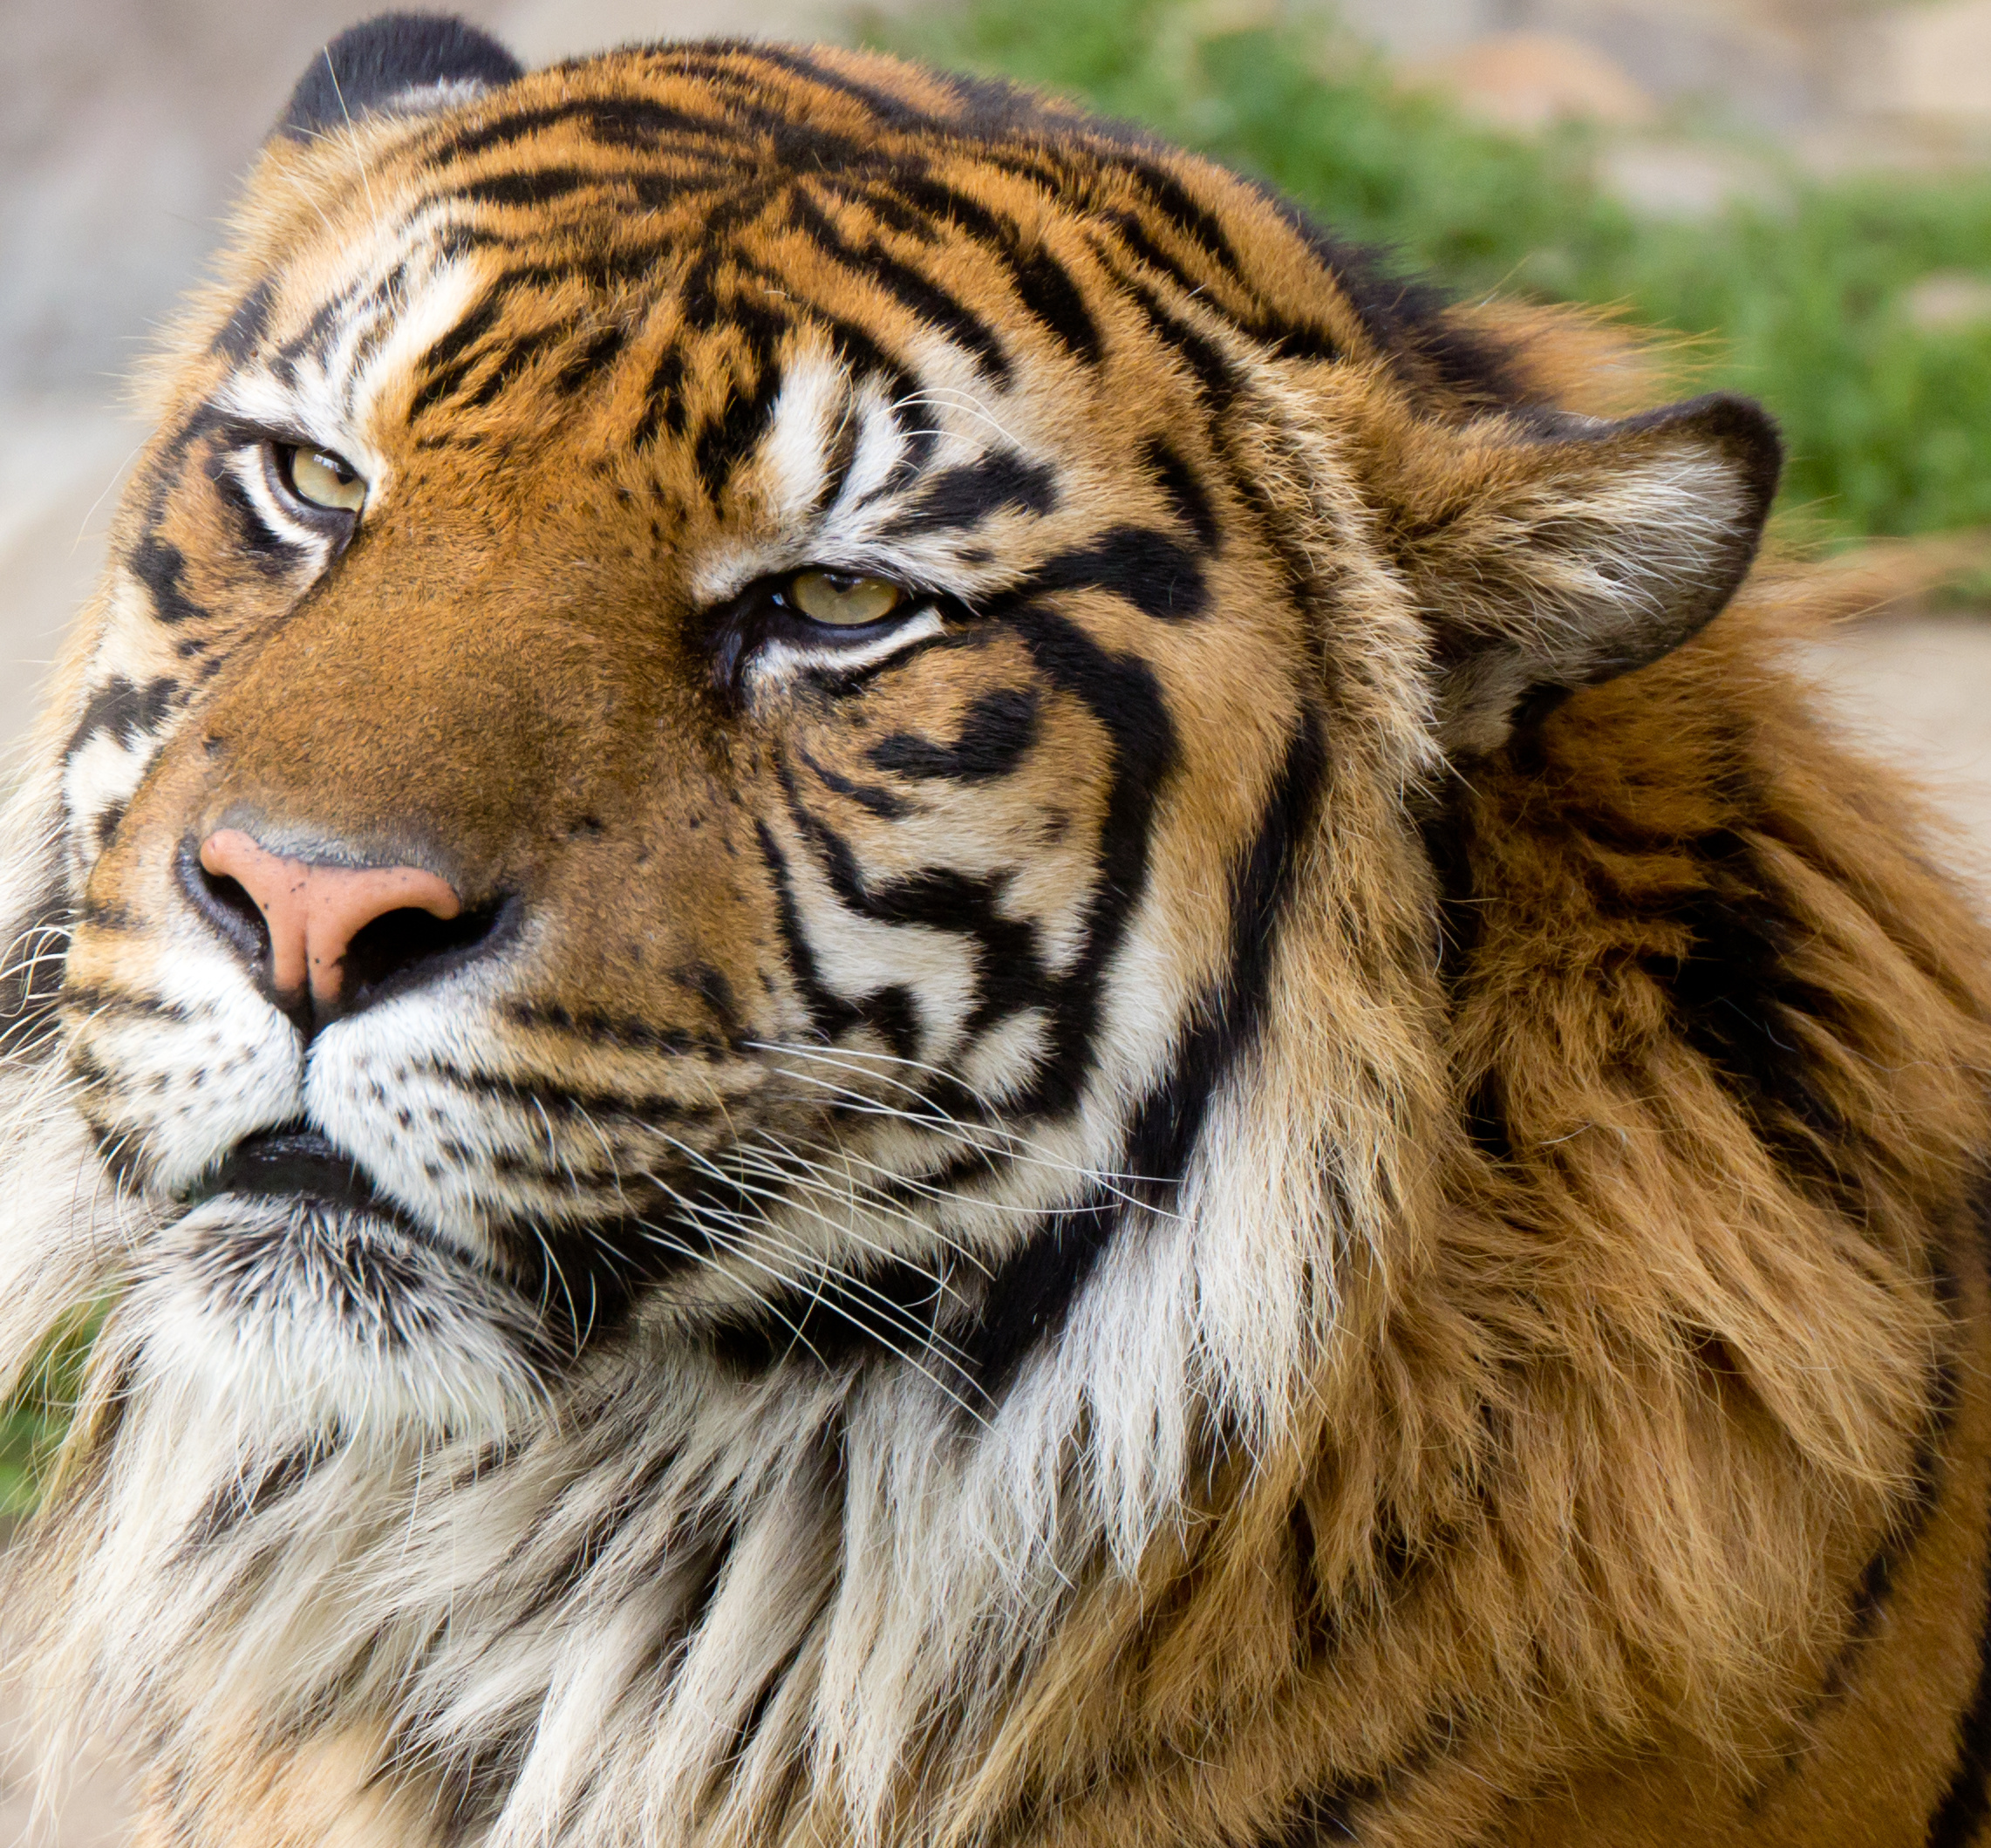tiger: (101, 47, 1840, 1714)
